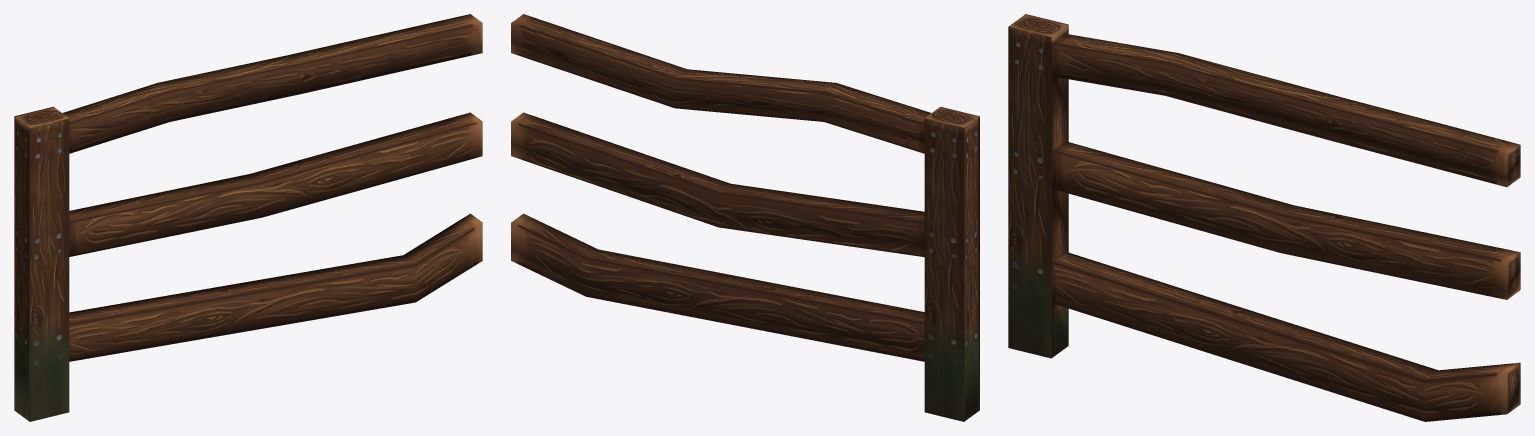
The model's file is cerca1.fbx.
3 views of the same model, side by side, from view 1: azimuth 30°, elevation 25°; view 2: azimuth 150°, elevation 25°; view 3: azimuth 330°, elevation 25° (orthographic). The views are drawn at different scales.
Visible parts, largest first — view 1: CA_OPE_Props_Fazenda; view 2: CA_OPE_Props_Fazenda; view 3: CA_OPE_Props_Fazenda.
Boxes of the visible parts, box(x1,y1,x2,y2) form: CA_OPE_Props_Fazenda: box(14, 14, 482, 421); CA_OPE_Props_Fazenda: box(511, 14, 979, 421); CA_OPE_Props_Fazenda: box(1008, 14, 1520, 421).
Size of the model in its own units: 3.32 by 2.05 by 0.3265.
